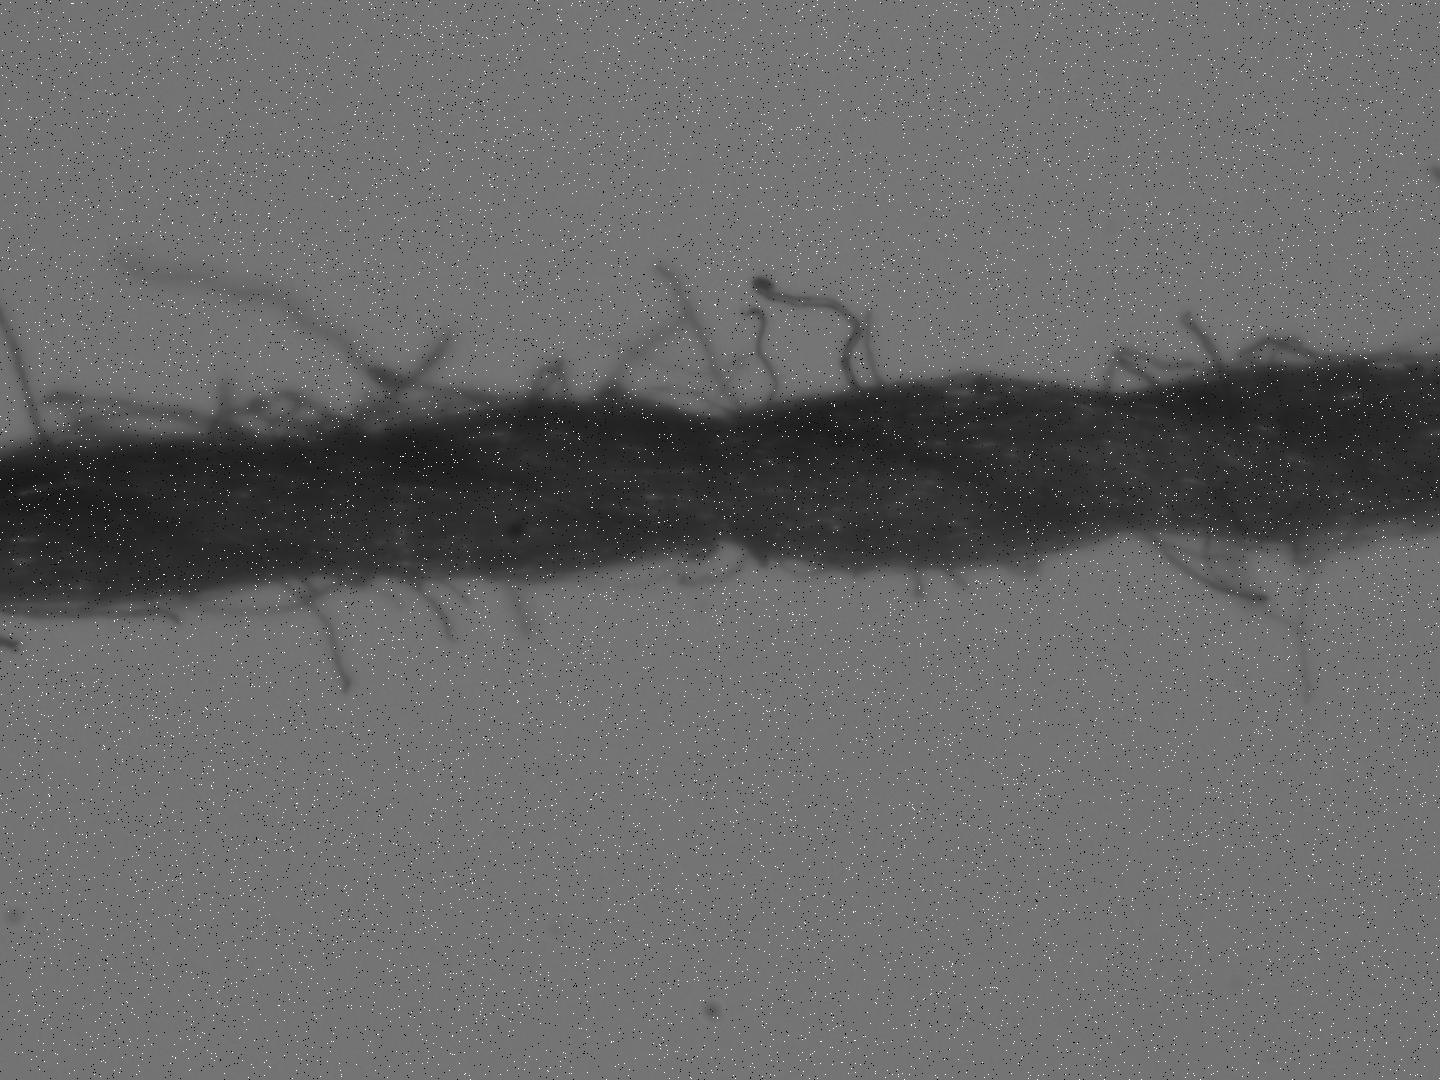loop_fiber: (2, 353, 569, 450), (1124, 524, 1416, 711), (582, 258, 751, 424), (1098, 339, 1439, 400), (150, 579, 361, 623)
protruding_fiber: (115, 248, 408, 439), (749, 270, 866, 394), (257, 571, 357, 701), (1, 310, 53, 448), (1177, 307, 1244, 388), (396, 572, 467, 644), (744, 305, 783, 416), (857, 303, 890, 393)
